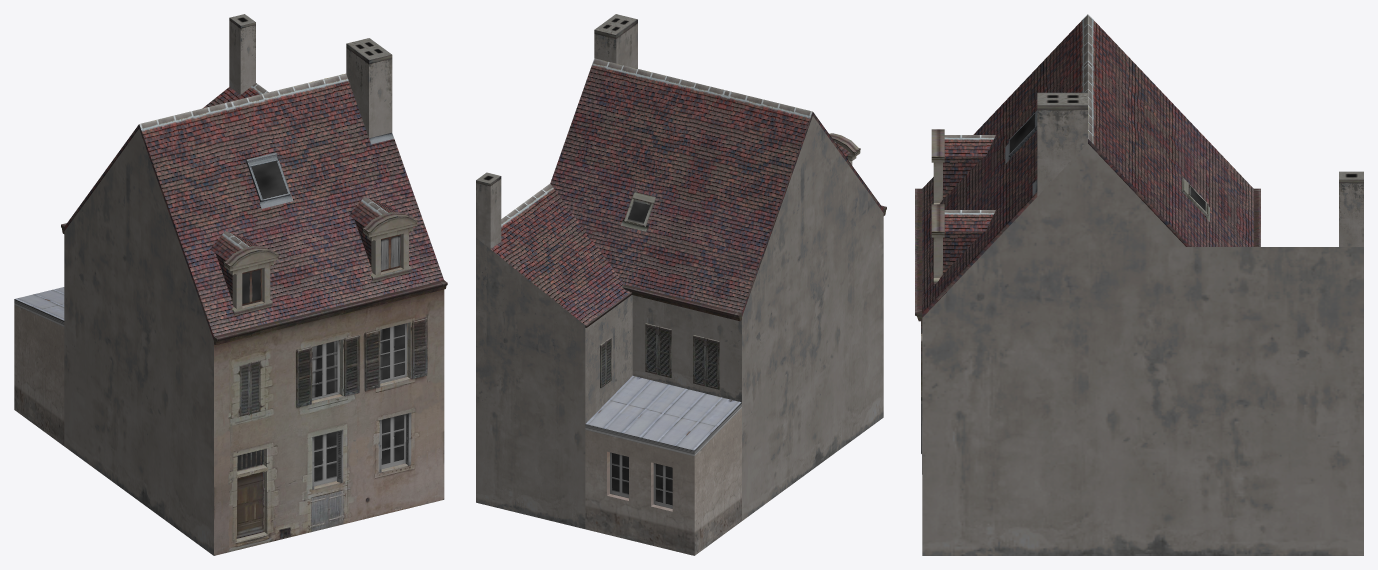
File: city_house_4.obj
3 renders of one model, left to right at view 1: azimuth 30°, elevation 25°; view 2: azimuth 150°, elevation 25°; view 3: azimuth 270°, elevation 25°, orthographic. The views are drawn at different scales.
Parts seen in each view (by area): view 1: 3_3_0; view 2: 3_3_0; view 3: 3_3_0.
Part boxes in pixels (x1,y1,x2,y2): 3_3_0: (14,14,447,555); 3_3_0: (476,14,886,555); 3_3_0: (915,14,1363,555).
Bounding box in the file's own units: 8 × 13.51 × 12.2.
